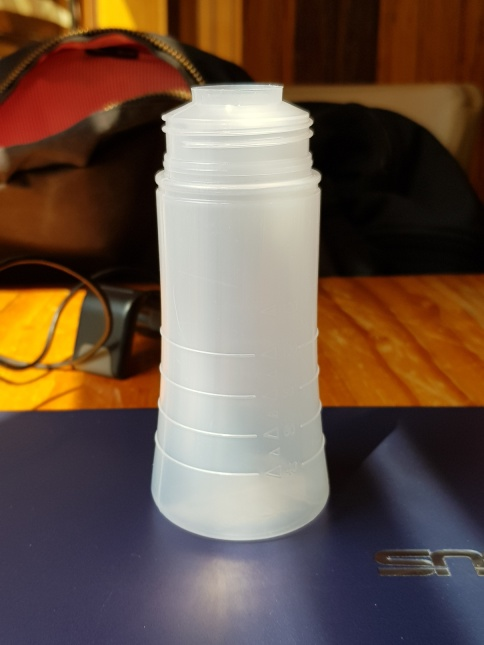Plastic: (144, 74, 333, 546)
